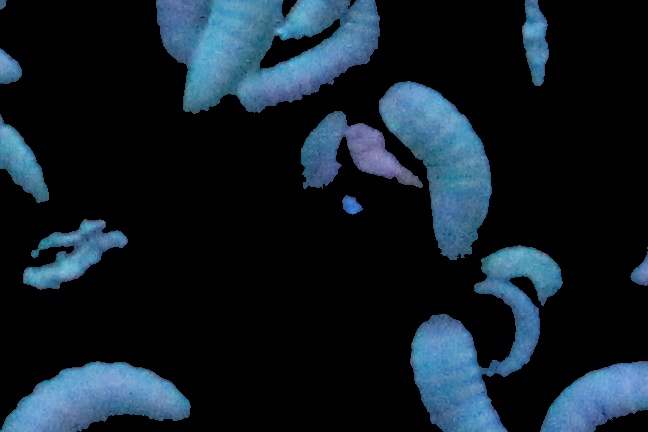larvae: (377, 81, 493, 267), (236, 1, 381, 116), (7, 359, 194, 432), (402, 313, 508, 432), (183, 1, 278, 109), (537, 360, 648, 432), (468, 271, 540, 376), (478, 244, 564, 307), (302, 111, 346, 209), (1, 122, 51, 207), (158, 1, 209, 62), (277, 1, 349, 41)
